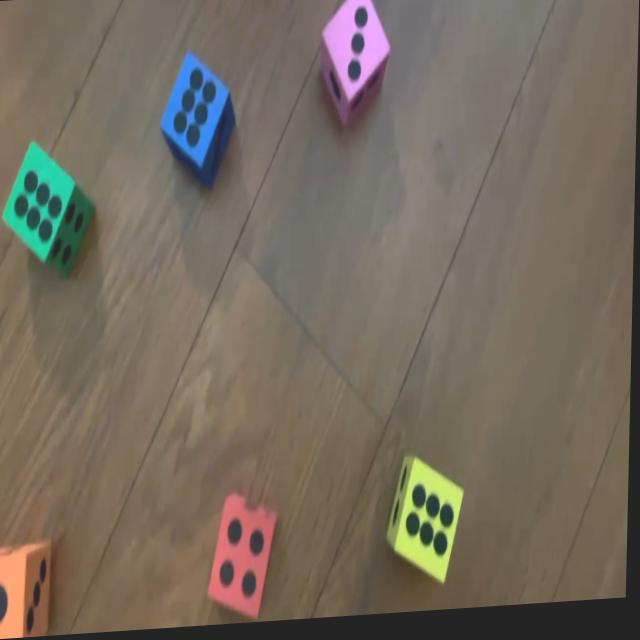blue_block: (159, 50, 237, 192)
red_block: (208, 493, 282, 623)
